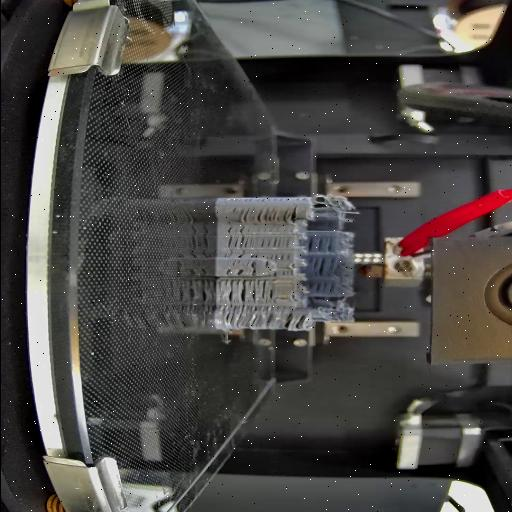cracks: (222, 304, 276, 330), (237, 206, 299, 224), (218, 280, 254, 302), (225, 224, 251, 249), (284, 309, 310, 332), (306, 256, 334, 274), (306, 236, 334, 252), (306, 280, 334, 294), (259, 236, 291, 248), (258, 280, 274, 300), (223, 252, 260, 258), (271, 269, 293, 277), (248, 262, 259, 276), (224, 268, 242, 276), (270, 254, 290, 260), (264, 258, 270, 268)
